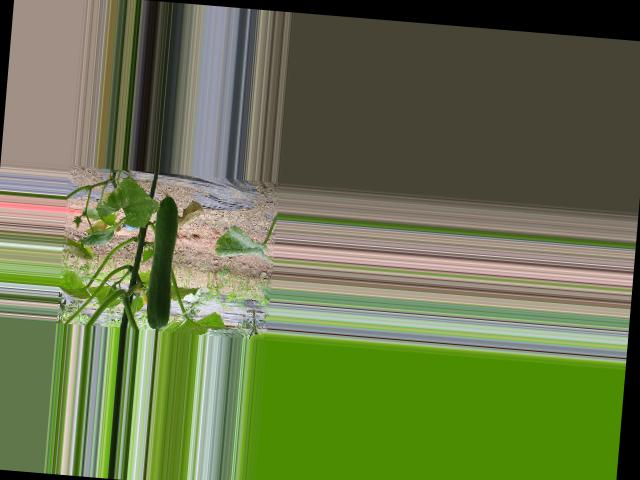cucumber: (145, 191, 180, 329)
